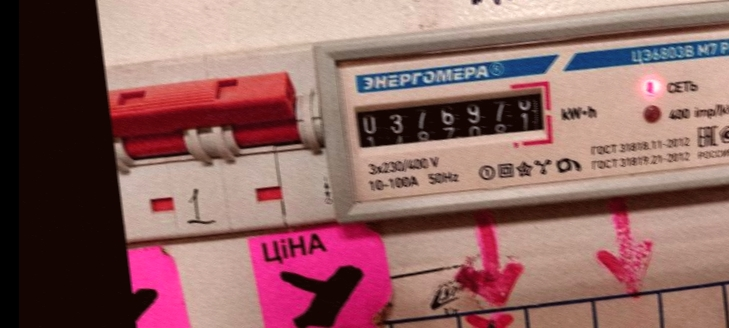0: (359, 110, 375, 134)
1: (517, 109, 530, 131)
3: (387, 111, 404, 134)
6: (437, 101, 455, 125)
7: (411, 105, 429, 131), (489, 97, 507, 122)
9: (463, 100, 480, 123)
screen: (342, 68, 559, 169)
